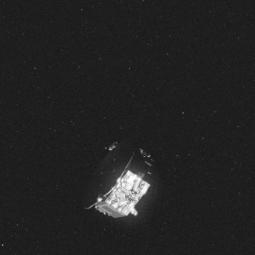lisa_pathfinder: (73, 132, 160, 228)
